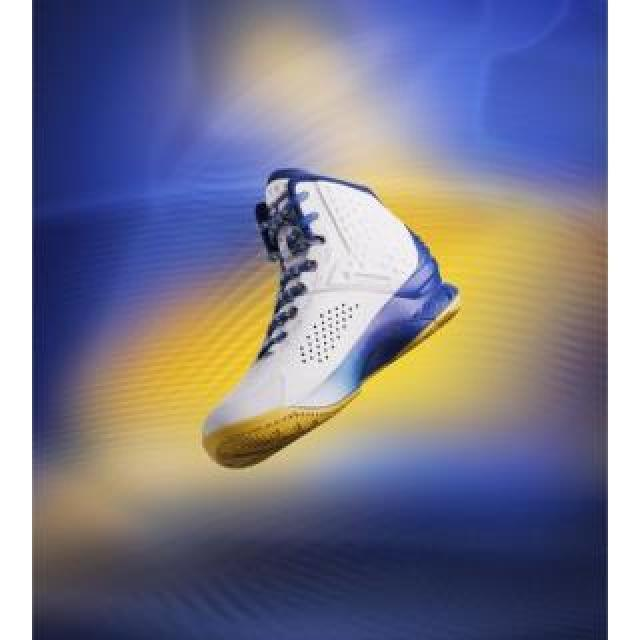shoes: (203, 166, 457, 468)
